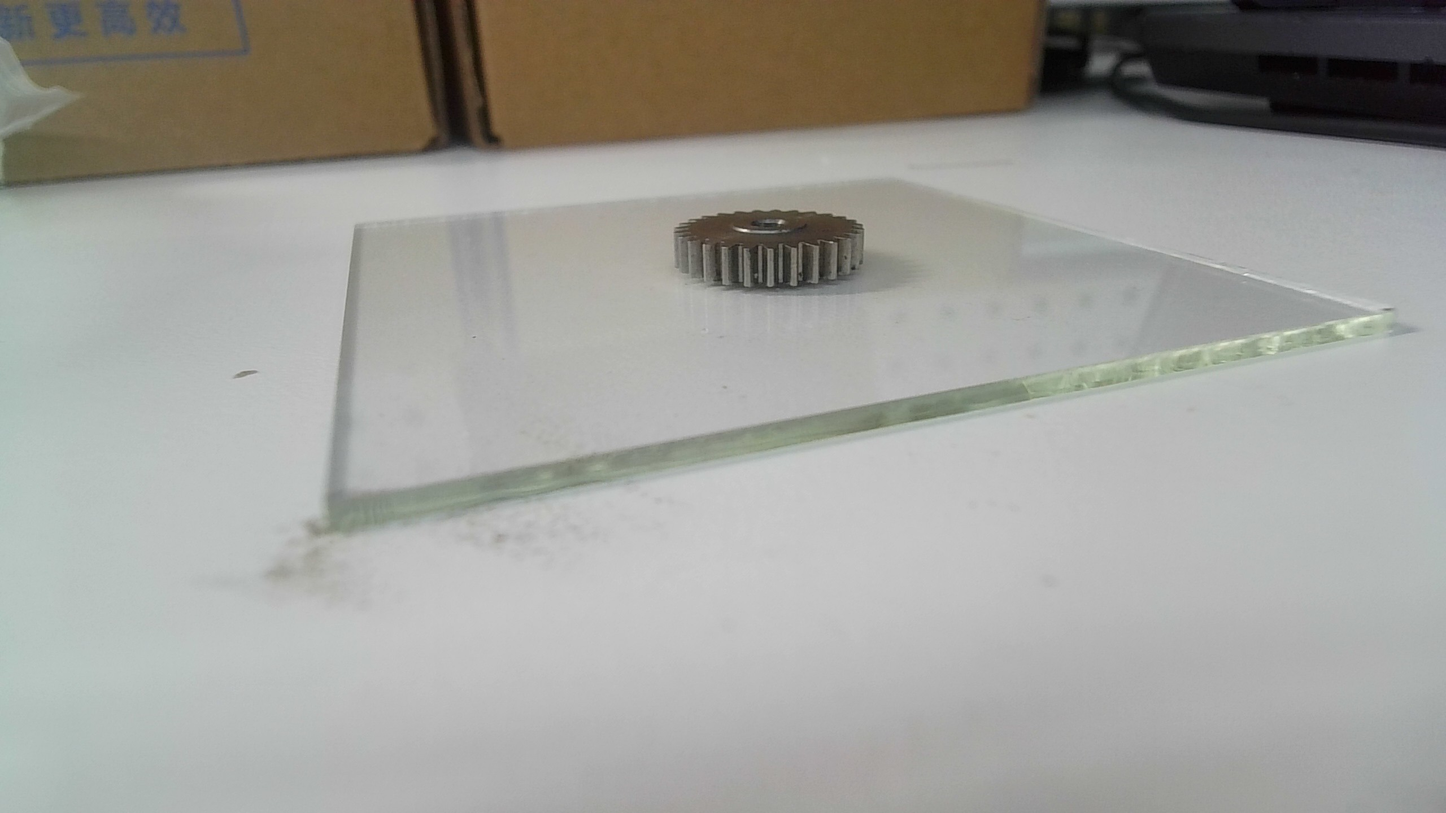gear: (670, 207, 869, 289)
